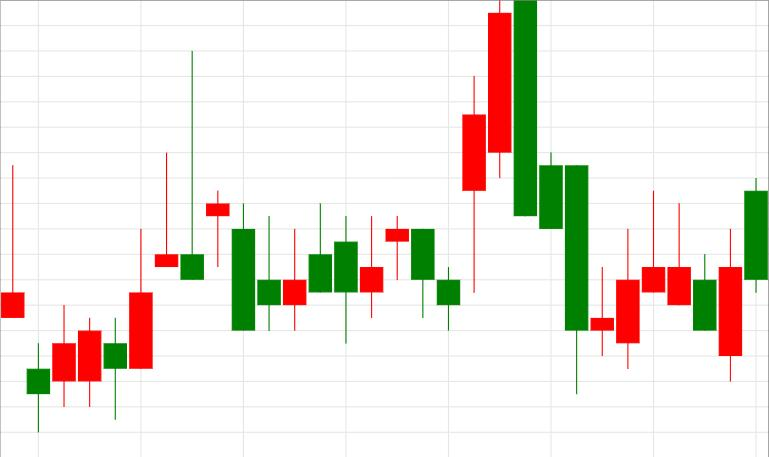bearish_engulfing_fall: (437, 0, 537, 332)
shooting_star_fall: (53, 51, 204, 419)
